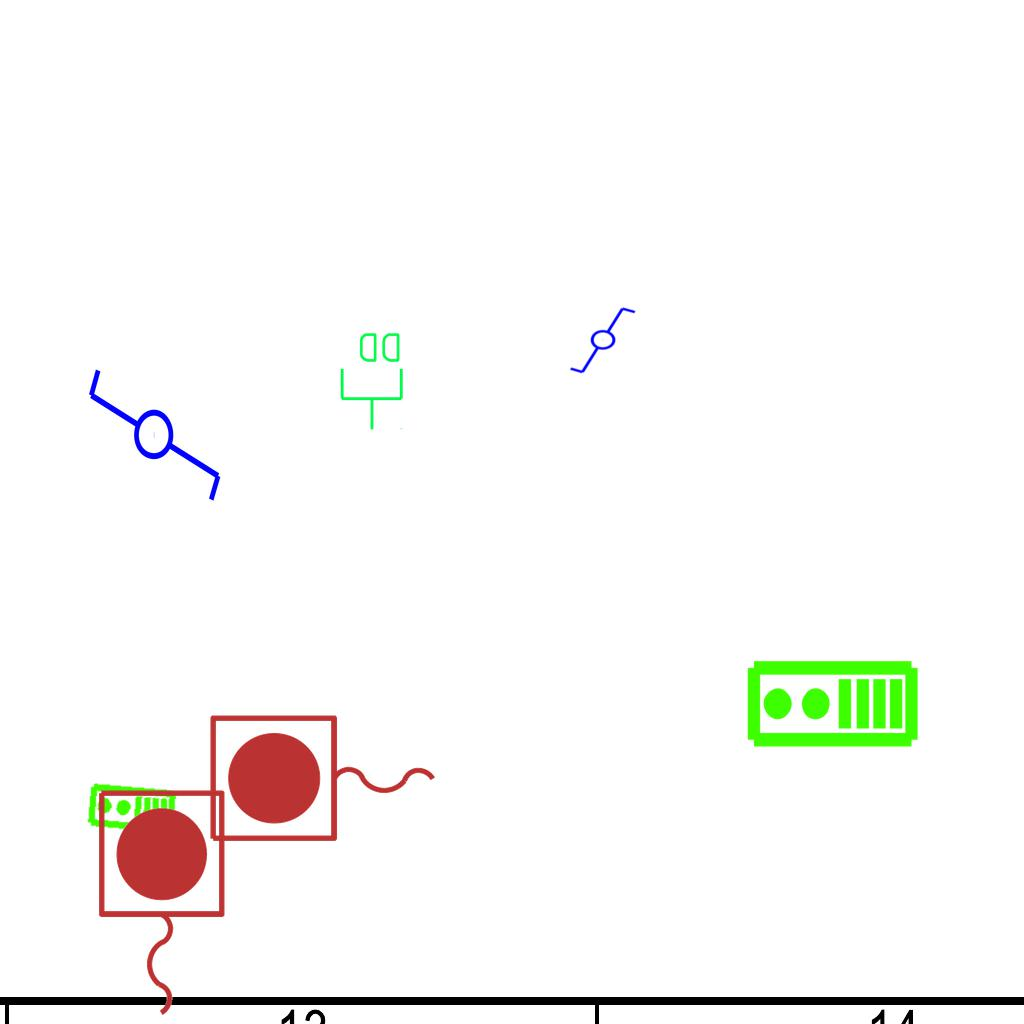Datenanschluss_zweifach: (338, 329, 407, 432)
Gegensprechanlage_mit_Video: (744, 658, 920, 753), (85, 781, 178, 837)
Wechselschalter: (84, 348, 228, 505), (568, 305, 646, 377)
Zugtaster: (202, 708, 446, 852), (88, 782, 232, 1024)
